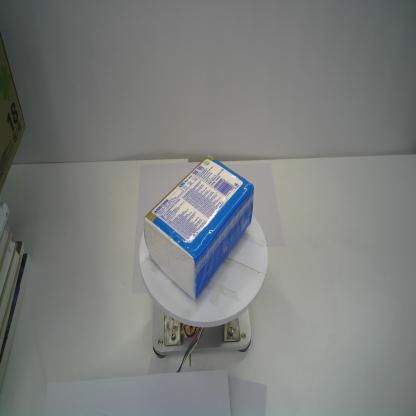Tissue: (143, 152, 256, 301)
